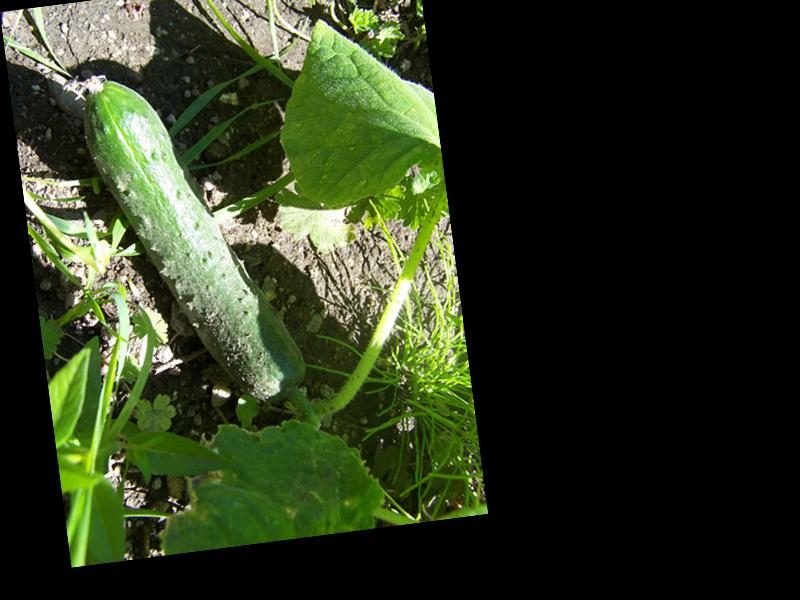Cucumber: (77, 54, 310, 424)
